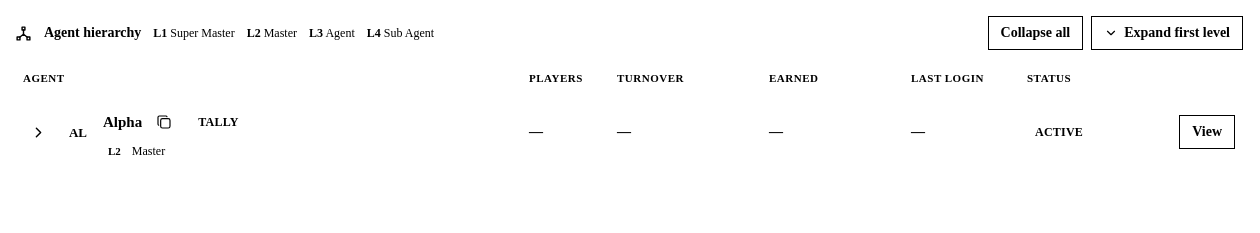
Test case: failed children can be retried inline and an empty branch gives an explicit result
Later steps or results of the test are not shown.
Click the button named "Expand Alpha" at (38, 132), box [23,115,53,149]
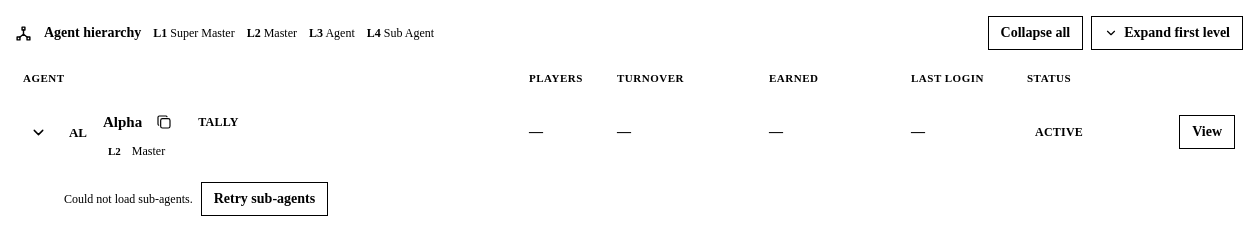
Expected: the link "Alpha" is shown, [103,114,142,130]
Expected: the message "Could not load sub-agents. Retry sub-agents" is shown, [64,182,328,216]
